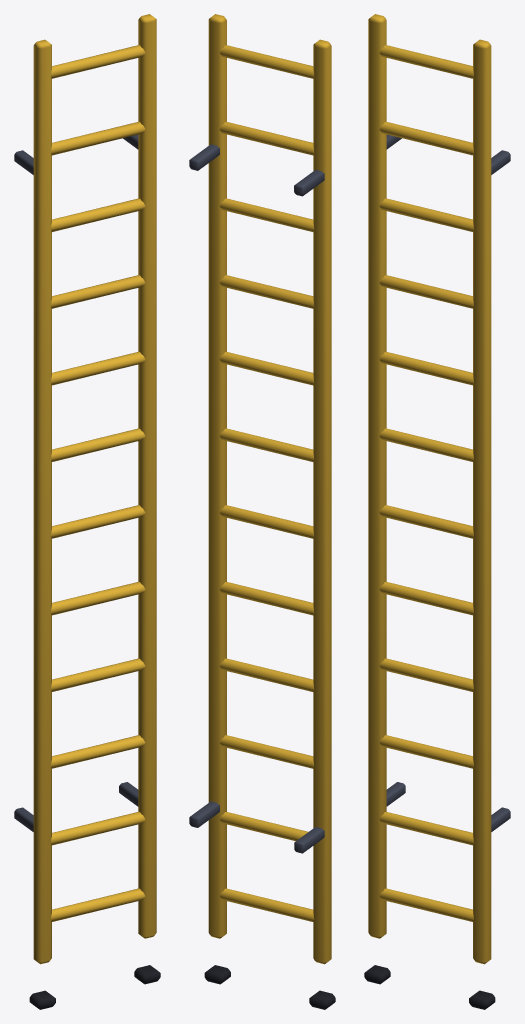
Rendered from SM_Stage4_WallLadder.fbx.
The picture shows the model from 3 angles, left to right: view 1: azimuth 30°, elevation 25°; view 2: azimuth 150°, elevation 25°; view 3: azimuth 330°, elevation 25°; orthographic projection.
Visible parts, largest first — view 1: SM_Stage4_WallLadder; view 2: SM_Stage4_WallLadder; view 3: SM_Stage4_WallLadder.
Part boxes in pixels (bbox=[...]): SM_Stage4_WallLadder: bbox=[14, 14, 160, 1009]; SM_Stage4_WallLadder: bbox=[189, 14, 335, 1009]; SM_Stage4_WallLadder: bbox=[364, 14, 510, 1009].
Size of the model in its own units: 59.05 by 440 by 24.57.
